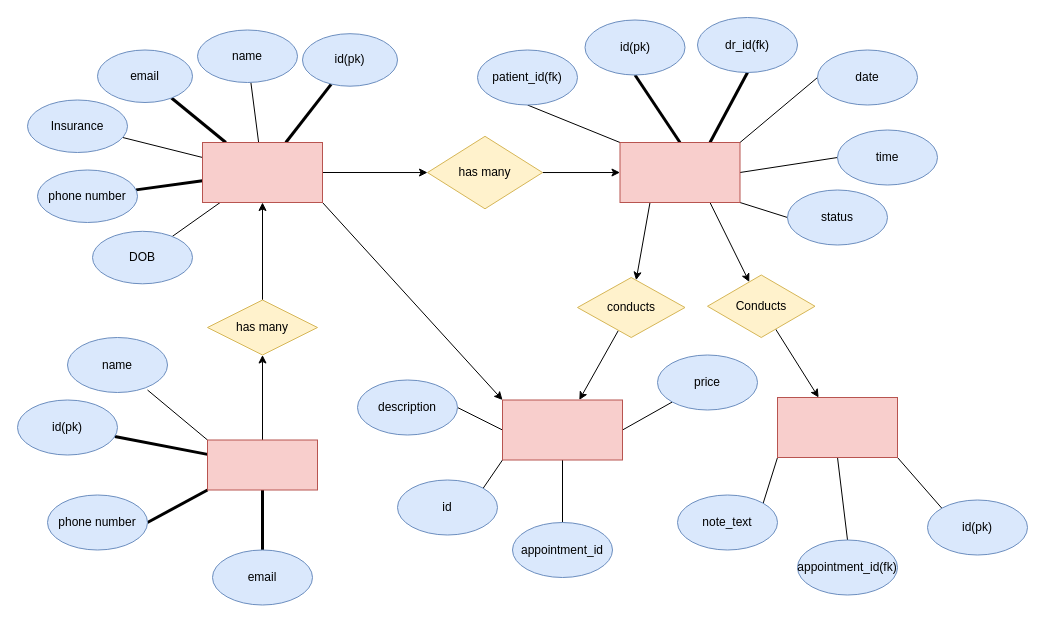
This 1045x623 diagram has some shape labels left out. Here are the shapes that lost their labels. From the top down, the centre of each, then its label:
point (262, 172): Patients
point (679, 172): Appointments
point (562, 429): Treatmen
point (837, 427): Notes
point (262, 464): Chiro.Dr.
